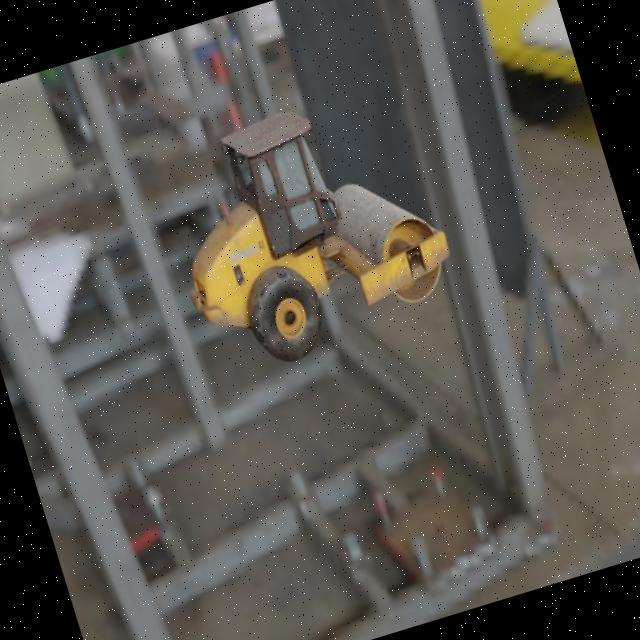Roller: (145, 74, 467, 384)
